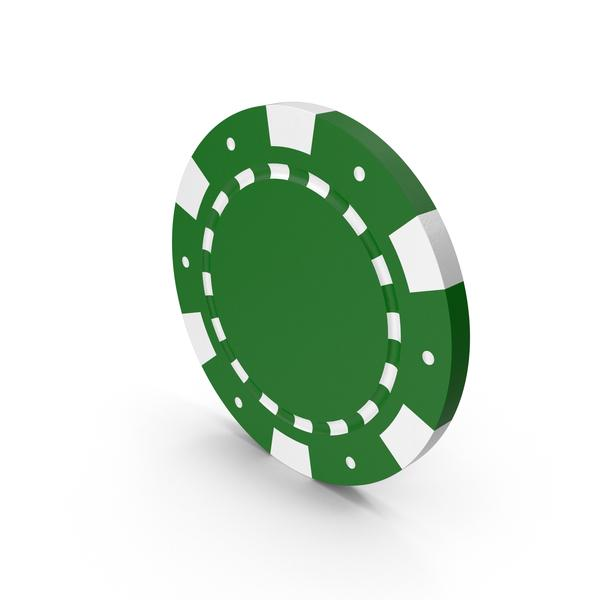chip-green: (172, 102, 469, 485)
